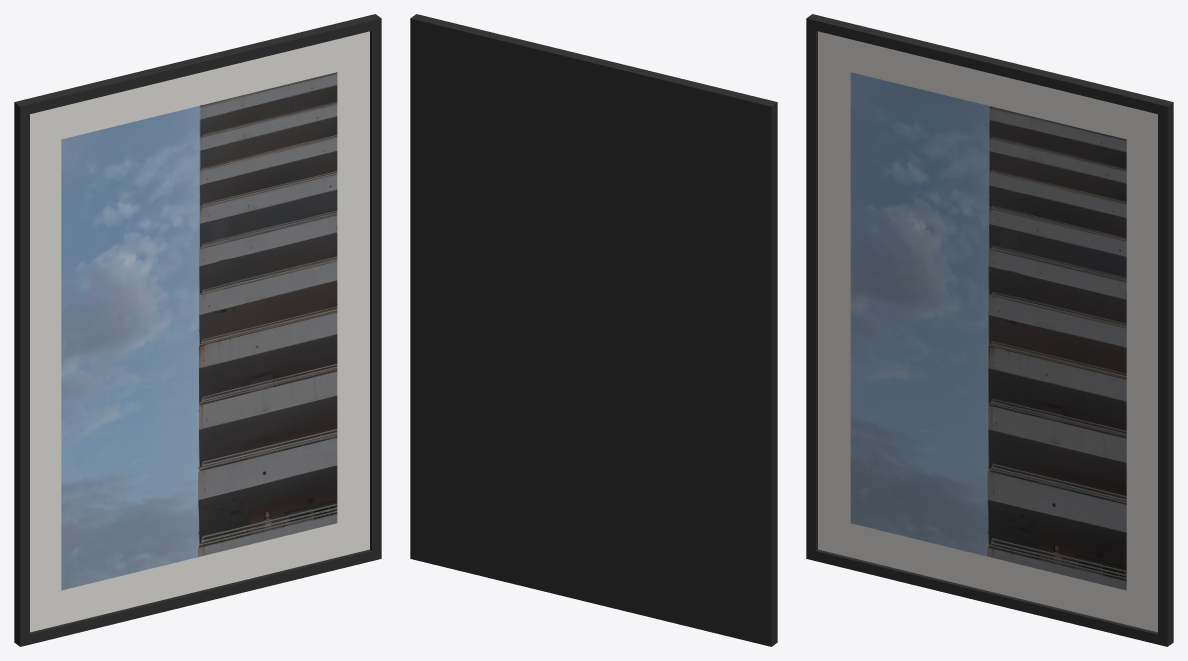
The model's file is balkongerna-90.gltf.
The picture shows the model from 3 angles, left to right: view 1: azimuth 30°, elevation 25°; view 2: azimuth 150°, elevation 25°; view 3: azimuth 330°, elevation 25°; orthographic projection.
Parts seen in each view (by area): view 1: tavla; view 2: tavla; view 3: tavla.
Boxes of the visible parts, x1=… form: tavla: x1=14, y1=14, x2=381, y2=646; tavla: x1=410, y1=14, x2=777, y2=646; tavla: x1=806, y1=14, x2=1173, y2=646.
Size of the model in its own units: 0.7542 by 1.08 by 0.022.
3 materials, 1 textured.
